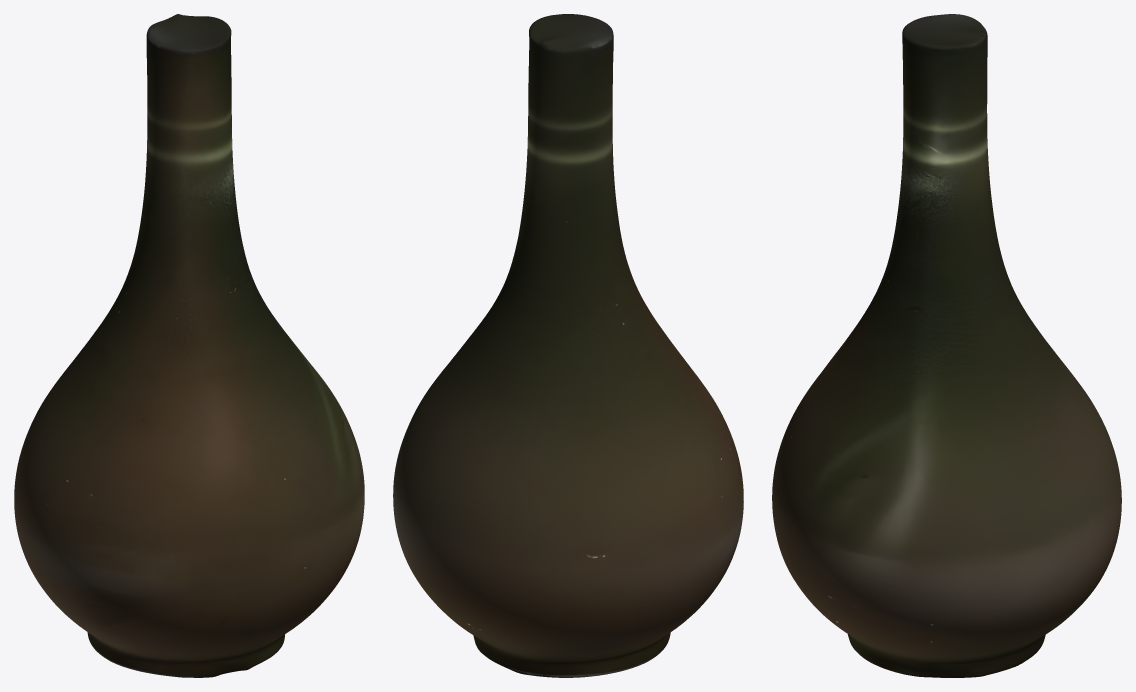
The picture shows the model from 3 angles, left to right: view 1: azimuth 30°, elevation 25°; view 2: azimuth 150°, elevation 25°; view 3: azimuth 270°, elevation 25°; orthographic projection.
Visible parts, largest first — view 1: material; view 2: material; view 3: material.
Boxes of the visible parts, x1,y1,x2,y2 form: material: (14, 14, 364, 677); material: (393, 14, 743, 677); material: (772, 14, 1121, 677).
Bounding box in the file's own units: 0.6037 × 1.16 × 0.5995.
Materials: 1 (1 with a texture image).
